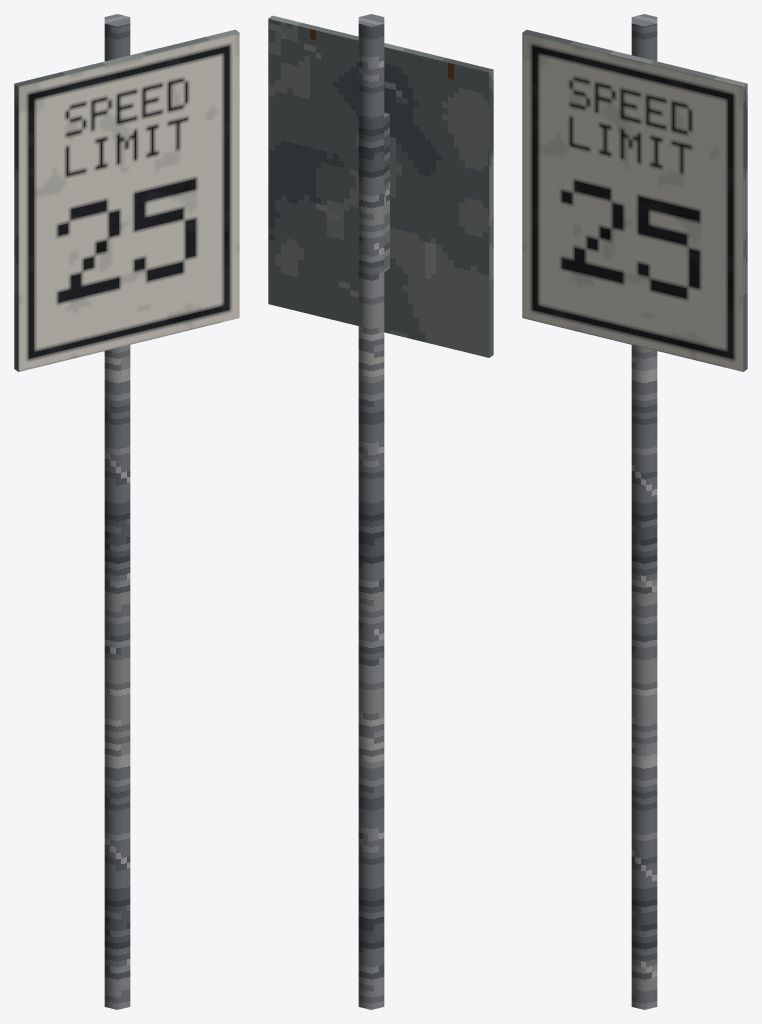
Rendered from SP_Sign_SpeedLimit25.obj.
3 renders of one model, left to right at view 1: azimuth 30°, elevation 25°; view 2: azimuth 150°, elevation 25°; view 3: azimuth 330°, elevation 25°, orthographic.
Parts seen in each view (by area): view 1: SP_Sign_SpeedLimit25_Mesh_M_Town_SignAtlas, SP_Sign_SpeedLimit25_Mesh_M_Furn_MetalBrushed, SP_Sign_SpeedLimit25_Mesh_M_Com_SignageBacking; view 2: SP_Sign_SpeedLimit25_Mesh_M_Com_SignageBacking, SP_Sign_SpeedLimit25_Mesh_M_Furn_MetalBrushed; view 3: SP_Sign_SpeedLimit25_Mesh_M_Town_SignAtlas, SP_Sign_SpeedLimit25_Mesh_M_Furn_MetalBrushed, SP_Sign_SpeedLimit25_Mesh_M_Com_SignageBacking.
Boxes of the visible parts, x1,y1,x2,y2 form: SP_Sign_SpeedLimit25_Mesh_M_Town_SignAtlas: (18,33,239,371); SP_Sign_SpeedLimit25_Mesh_M_Furn_MetalBrushed: (104,14,130,1009); SP_Sign_SpeedLimit25_Mesh_M_Com_SignageBacking: (14,29,239,371); SP_Sign_SpeedLimit25_Mesh_M_Com_SignageBacking: (268,15,493,357); SP_Sign_SpeedLimit25_Mesh_M_Furn_MetalBrushed: (358,14,389,1009); SP_Sign_SpeedLimit25_Mesh_M_Town_SignAtlas: (522,33,743,371); SP_Sign_SpeedLimit25_Mesh_M_Furn_MetalBrushed: (631,14,657,1009); SP_Sign_SpeedLimit25_Mesh_M_Com_SignageBacking: (522,29,747,371).
Bounding box in the file's own units: 0.6 × 2.55 × 0.0853.
3 materials, 3 textured.
